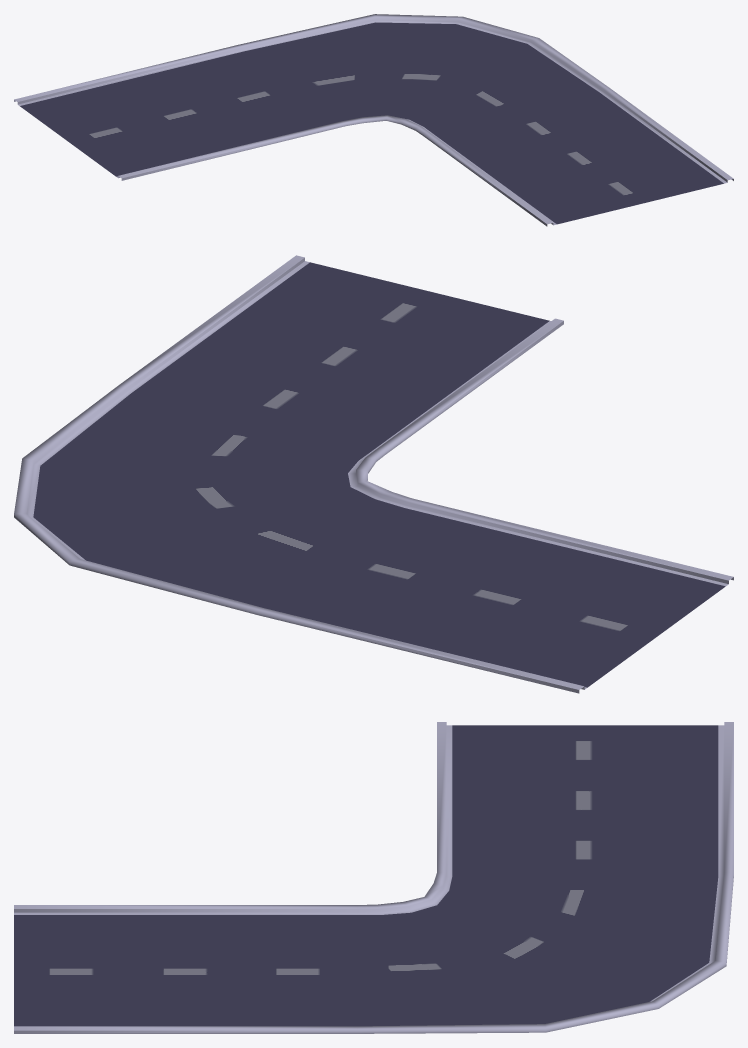
The model's file is Turn_left.fbx.
The picture shows the model from 3 angles, top to bottom: view 1: azimuth 30°, elevation 25°; view 2: azimuth 150°, elevation 25°; view 3: azimuth 270°, elevation 25°; orthographic projection. The views are drawn at different scales.
Parts seen in each view (by area): view 1: Turn_left; view 2: Turn_left; view 3: Turn_left.
Boxes of the visible parts, x1,y1,x2,y2 form: Turn_left: (14,14,733,226); Turn_left: (14,255,733,693); Turn_left: (14,722,733,1033).
Bounding box in the file's own units: 24.43 × 0.1269 × 24.1.
